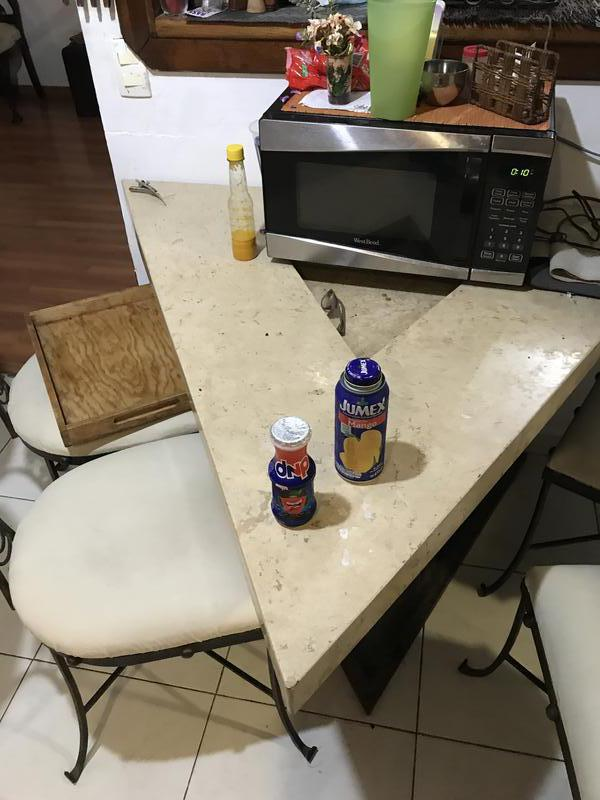danup: (269, 417, 319, 528)
jugo_jumex: (334, 357, 389, 484)
